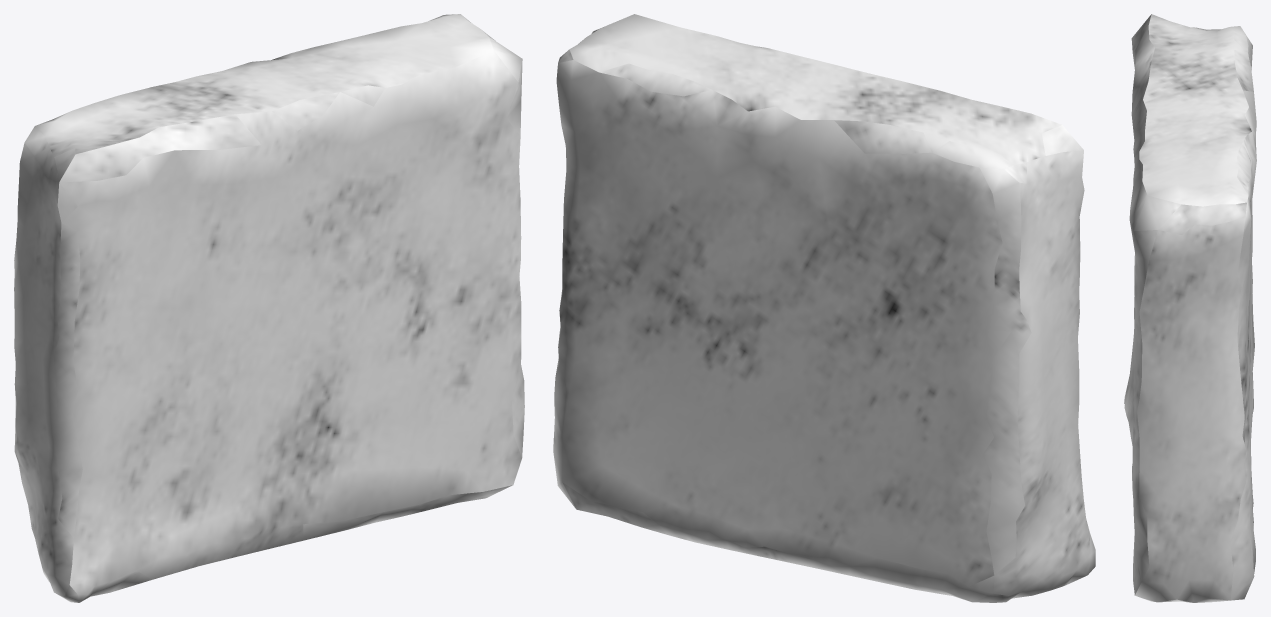
The model's file is plataforma_2.obj.
3 renders of one model, left to right at view 1: azimuth 30°, elevation 25°; view 2: azimuth 150°, elevation 25°; view 3: azimuth 270°, elevation 25°, orthographic. The views are drawn at different scales.
Parts seen in each view (by area): view 1: plataforma_2; view 2: plataforma_2; view 3: plataforma_2.
Part boxes in pixels (x1,y1,x2,y2): plataforma_2: [14, 14, 524, 602]; plataforma_2: [553, 14, 1095, 602]; plataforma_2: [1124, 14, 1256, 602].
Bounding box in the file's own units: 2.26 × 2.05 × 0.6026.
